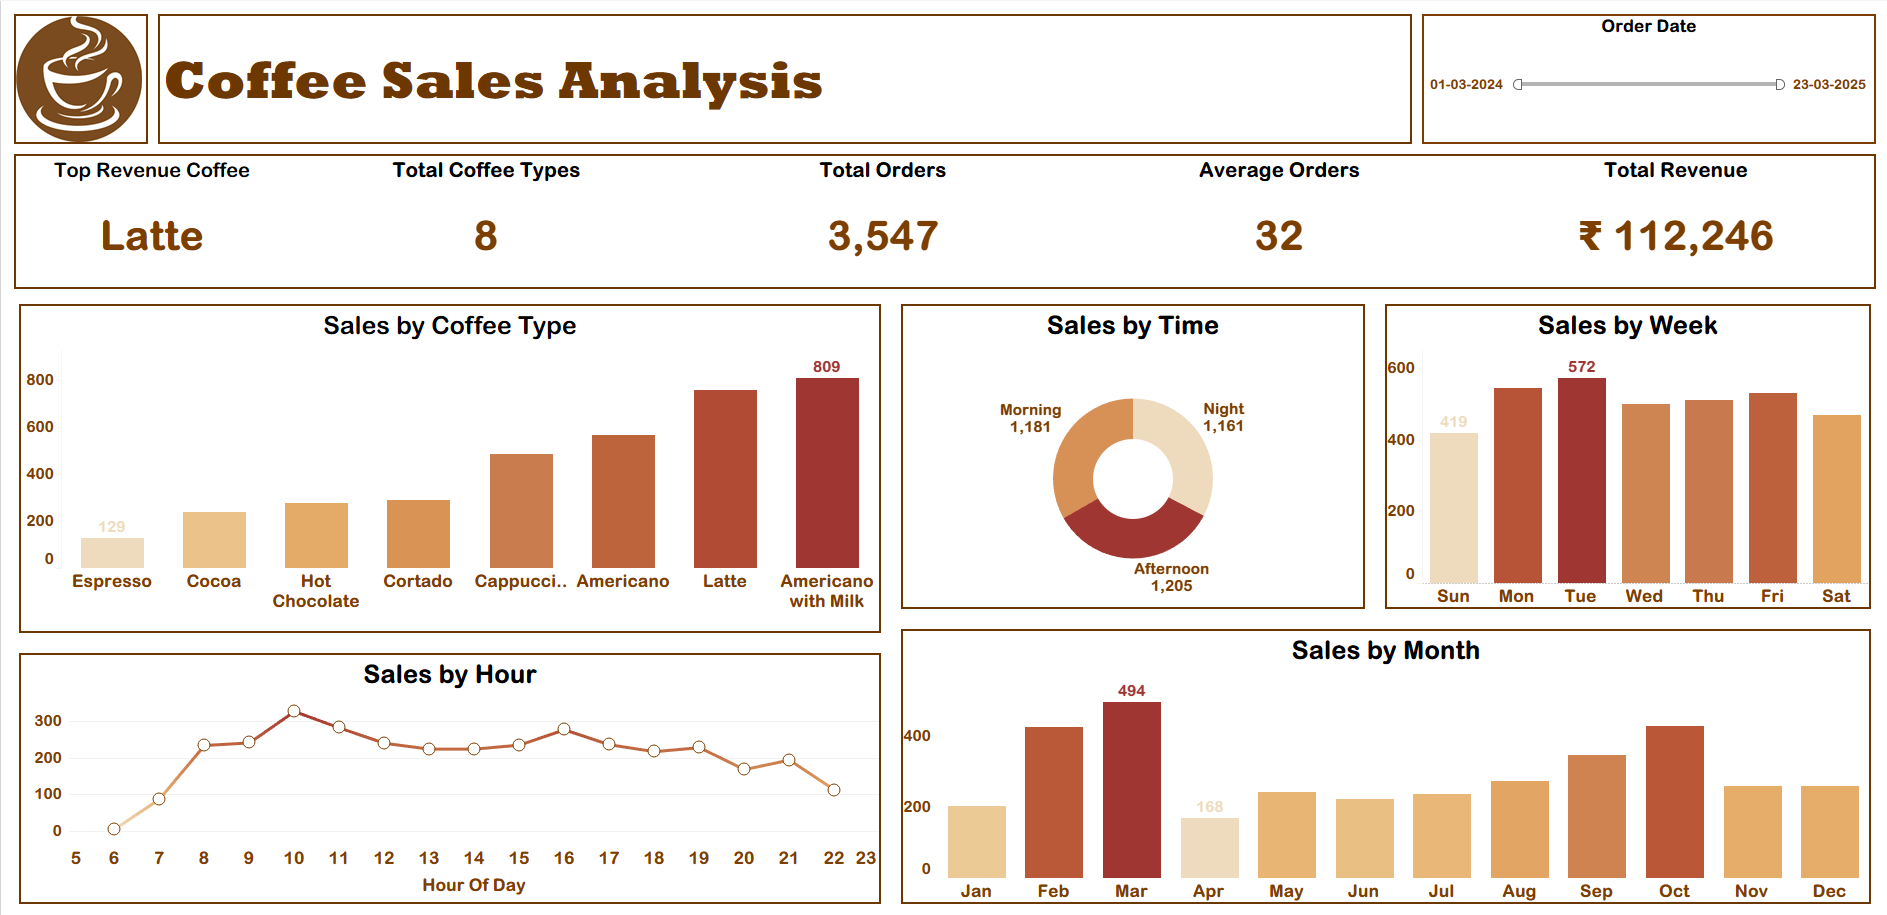

Layout of this report page (visuals, bound fields, positions):
{"tool":"tableau","page":{"name":"Dashboard 1","canvas":[1000,1000],"units":"permille","ordinal":0},"visuals":[{"type":"image","param":"Image/coffee.png","box":[4.8,8.7,86.9,152]},{"type":"text","box":[91.7,8.7,762.8,152]},{"type":"filter","title":"Sales based on Hour","param":"[federated.1yyguqb0jim7i610bv7nv1y0k27d].[none:Date:qk]","box":[854.6,8.7,140.6,152]},{"type":"worksheet","title":"KPIs","mark":"Automatic","rows":["Calculation_1691946150045265926"],"box":[4.8,160.7,990.3,157.4]},{"type":"worksheet","title":"Coffee Category","mark":"Automatic","rows":["Coffe!sales_C81B88FBE08E4327BF324EF9C3688066"],"cols":["Coffee_Name"],"box":[4.8,318.1,466.7,378.8]},{"type":"worksheet","title":"Sales based on Time","mark":"Pie","cols":["Calculation_1691946150052802568","Calculation_1691946150052802568"],"box":[471.5,318.1,256.2,353.1]},{"type":"worksheet","title":"Sales by Week","mark":"Bar","rows":["Coffe!sales_C81B88FBE08E4327BF324EF9C3688066"],"cols":["Weekday"],"box":[727.7,318.1,267.4,353.1]},{"type":"worksheet","title":"Sales by Month","mark":"Automatic","rows":["Coffe!sales_C81B88FBE08E4327BF324EF9C3688066"],"cols":["Month_Name"],"box":[471.5,671.3,523.7,320.1]},{"type":"worksheet","title":"Sales based on Hour","mark":"Automatic","rows":["Coffe!sales_C81B88FBE08E4327BF324EF9C3688066","Coffe!sales_C81B88FBE08E4327BF324EF9C3688066"],"cols":["Hour_Of_Day"],"box":[4.8,697,466.7,294.4]}]}

Visuals, with their boxes on the dashboard's canvas, which has no fixed pixel size, in thousandths of its width and height (x1, y1, x2, y2). These are canvas units, not pixel positions in the 1887x915 screenshot, which may show the page scaled, cropped or inside an application window:
image: bbox(5, 9, 92, 161)
text: bbox(92, 9, 854, 161)
"Sales based on Hour" filter: bbox(855, 9, 995, 161)
"KPIs" worksheet: bbox(5, 161, 995, 318)
"Coffee Category" worksheet: bbox(5, 318, 472, 697)
"Sales based on Time" worksheet (Pie marks): bbox(472, 318, 728, 671)
"Sales by Week" worksheet (Bar marks): bbox(728, 318, 995, 671)
"Sales by Month" worksheet: bbox(472, 671, 995, 991)
"Sales based on Hour" worksheet: bbox(5, 697, 472, 991)
